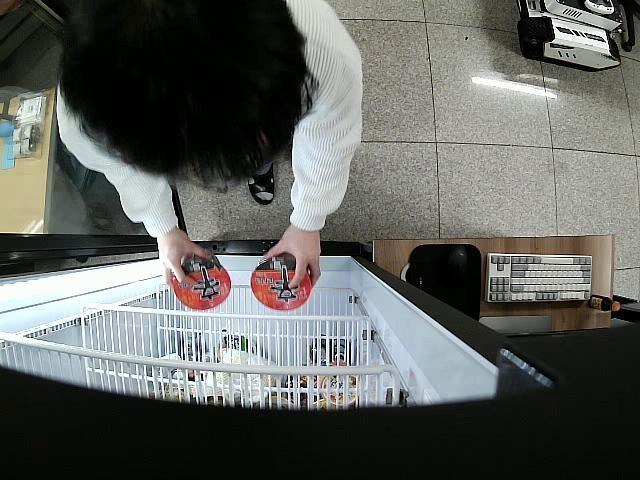01_ShinRamen_L: (250, 256, 315, 312), (172, 256, 231, 310)
